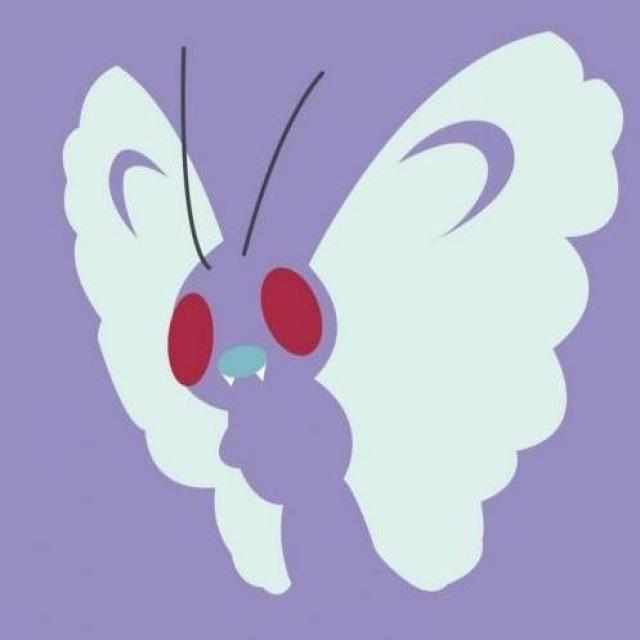Butterfree: (108, 115, 519, 592)
